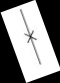t20: (17, 16, 38, 59)
